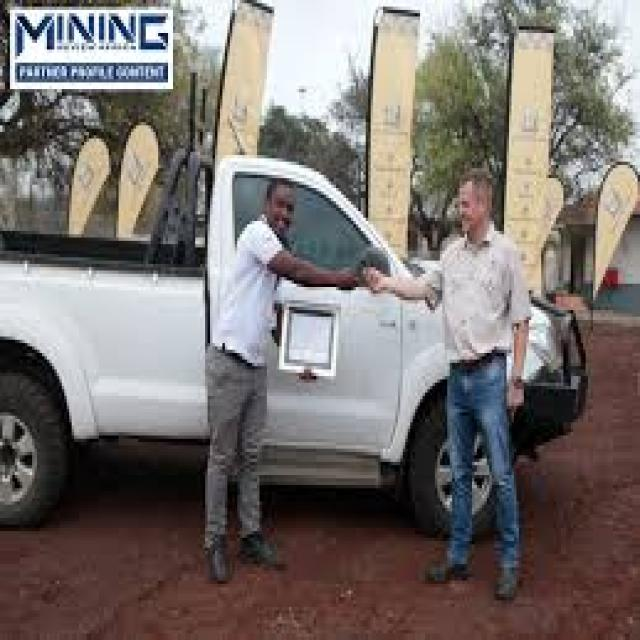light_vehicle: (0, 79, 578, 571)
